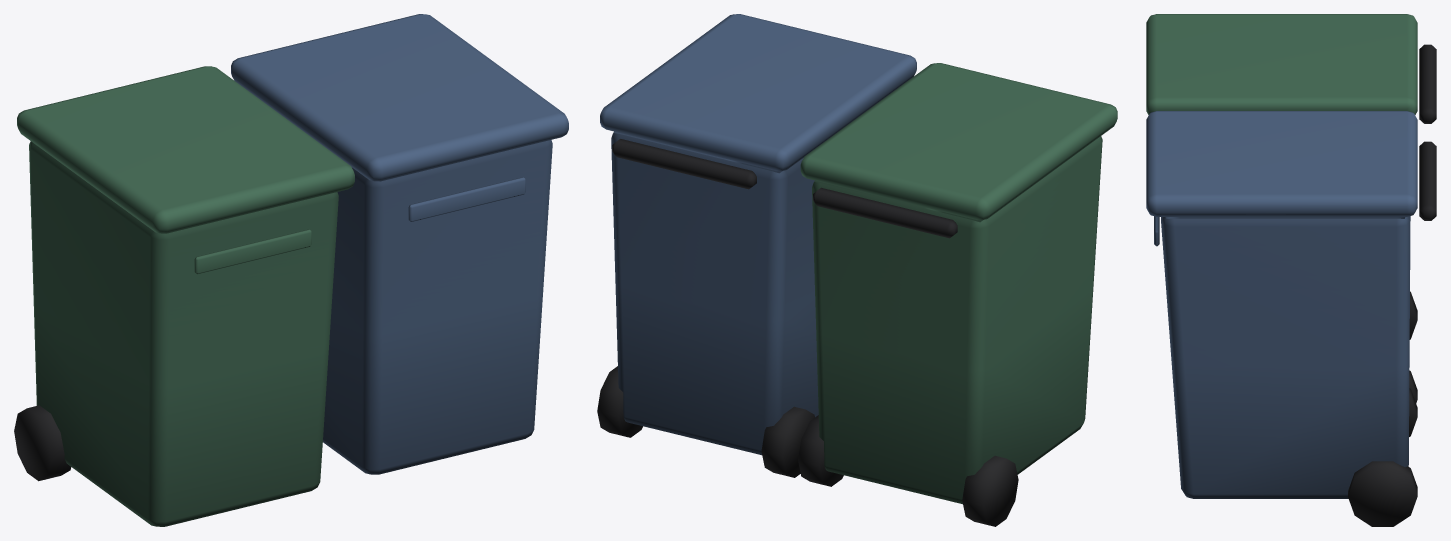
File: BinPair.fbx
3 views of the same model, side by side, from view 1: azimuth 30°, elevation 25°; view 2: azimuth 150°, elevation 25°; view 3: azimuth 270°, elevation 25° (orthographic). The views are drawn at different scales.
Visible parts, largest first — view 1: BinPair; view 2: BinPair; view 3: BinPair.
Boxes of the visible parts, x1,y1,x2,y2 form: BinPair: [14, 14, 568, 526]; BinPair: [597, 14, 1117, 526]; BinPair: [1146, 14, 1436, 526].
Bounding box in the file's own units: 1.28 × 1.05 × 0.835.
